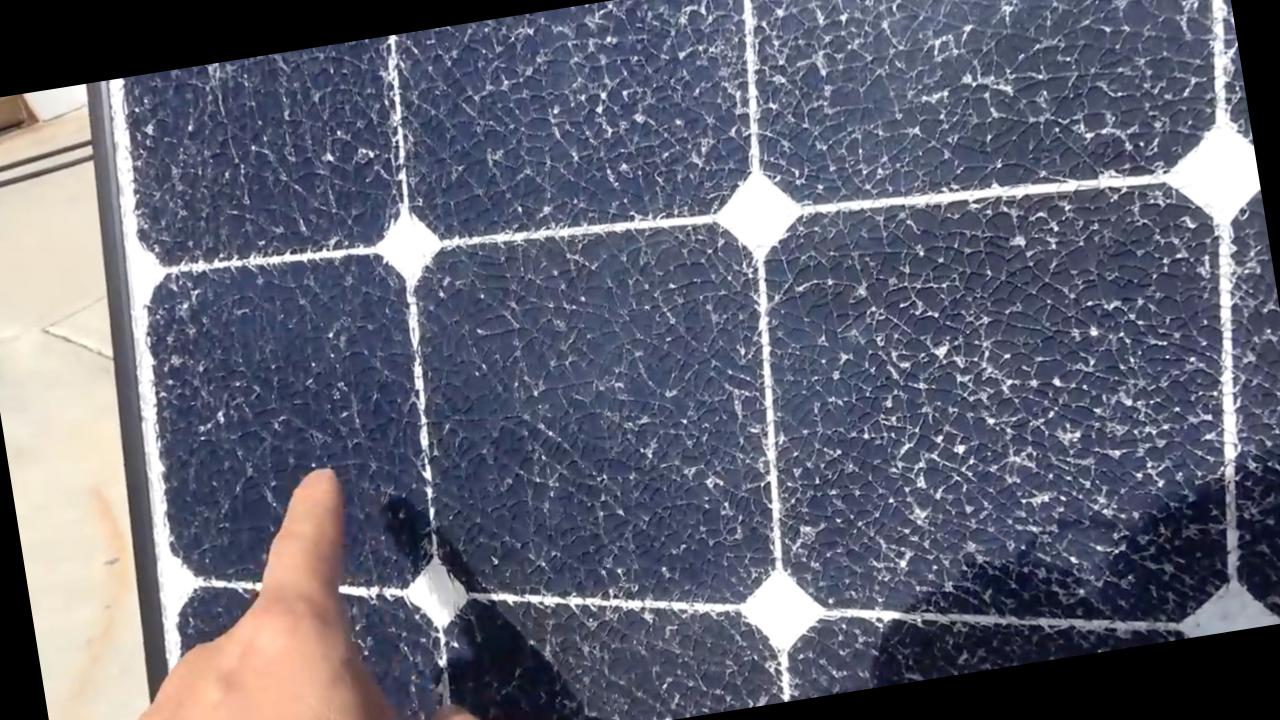Crack: (482, 0, 1279, 719), (131, 41, 403, 276), (168, 265, 423, 459)
